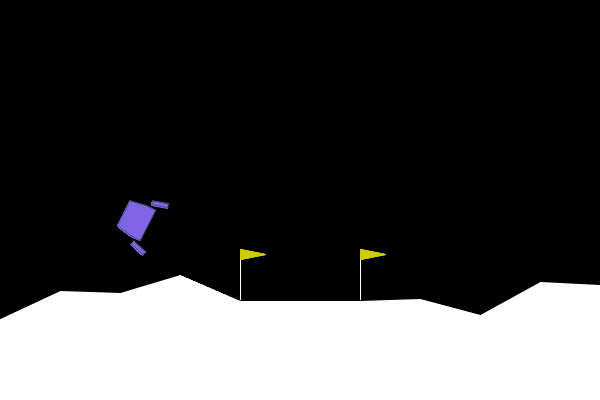lander: (108, 186, 171, 257)
